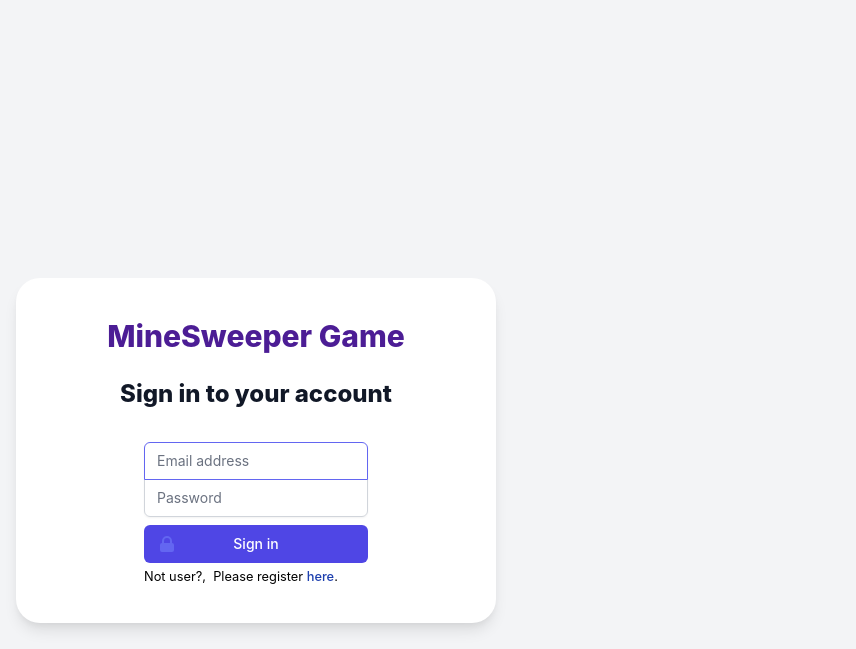
Test: <Login /> › <Login /> Check form login - Wrong credentials
The image size is (856, 649).
Type "admin@admin.com" into the field with test id "login-email". click: x=256, y=461
box: left=144, top=442, right=368, bottom=480
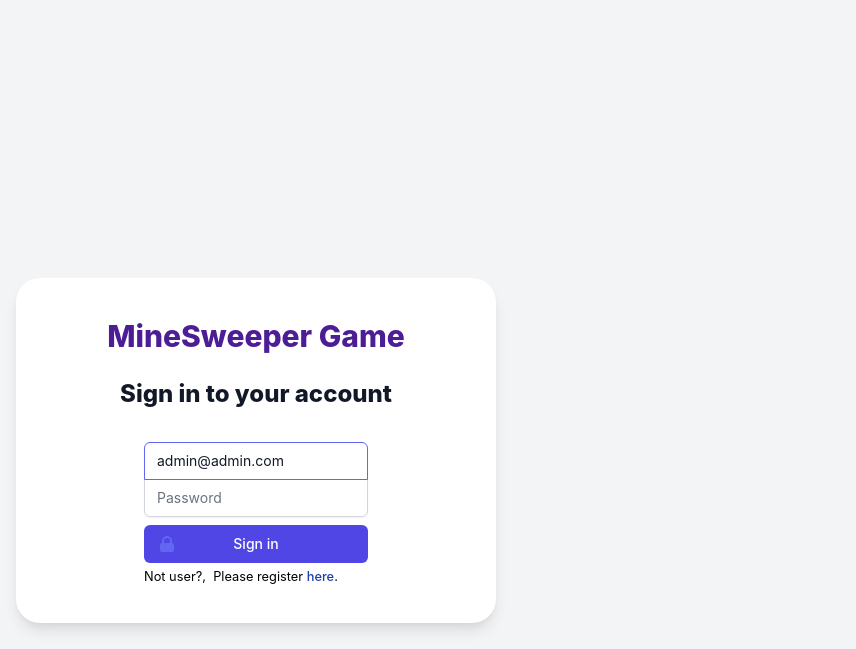
Type "admin123" into the password field with test id "login-password". click: x=256, y=498
box: left=144, top=479, right=368, bottom=517
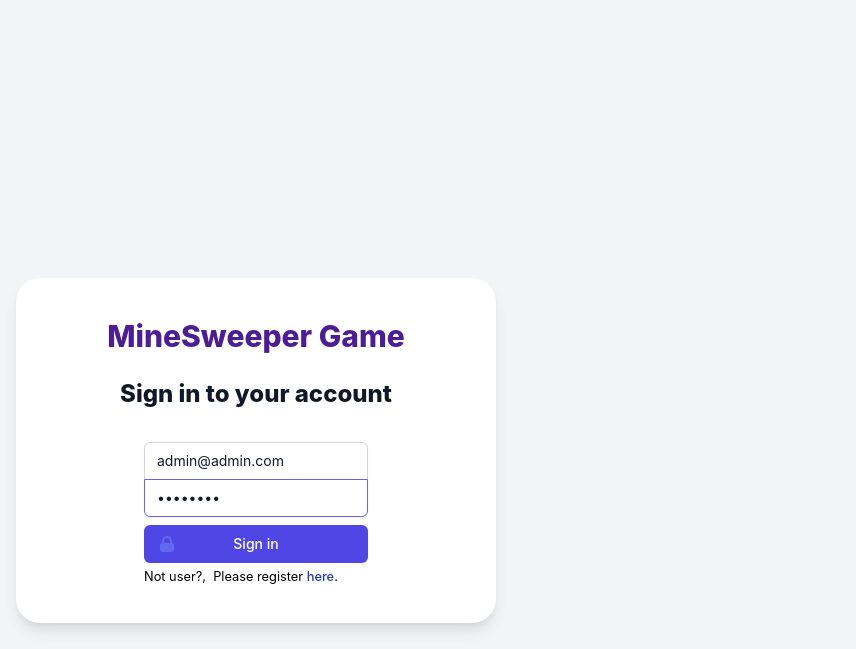
Click the button with test id "login-submit". click: x=256, y=544
box: left=144, top=525, right=368, bottom=563
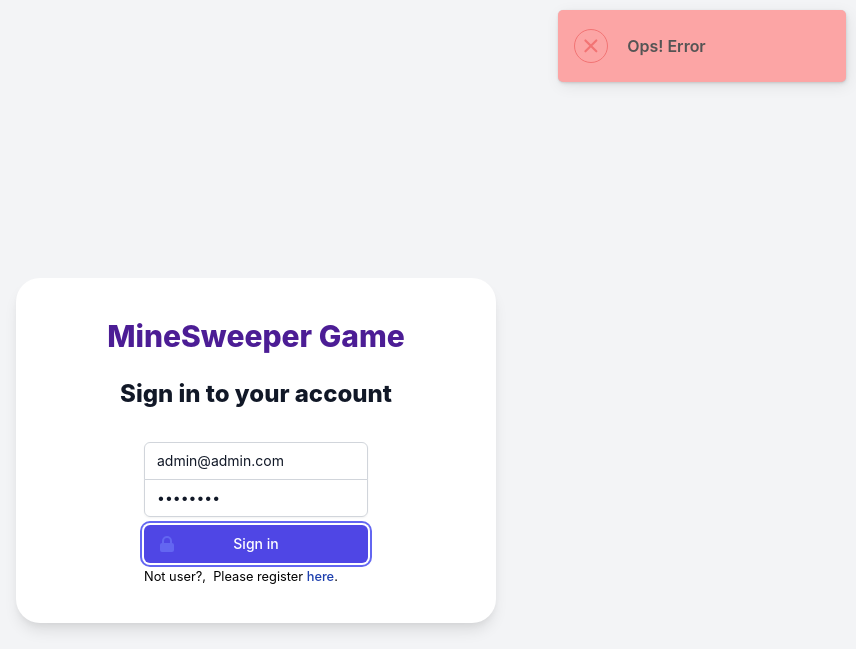
Expected: the message "Ops! Error" is shown, left=558, top=10, right=846, bottom=82
